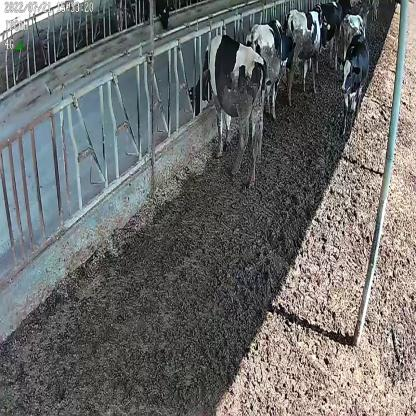cow: (187, 32, 268, 188), (245, 18, 296, 119), (340, 30, 370, 138)
